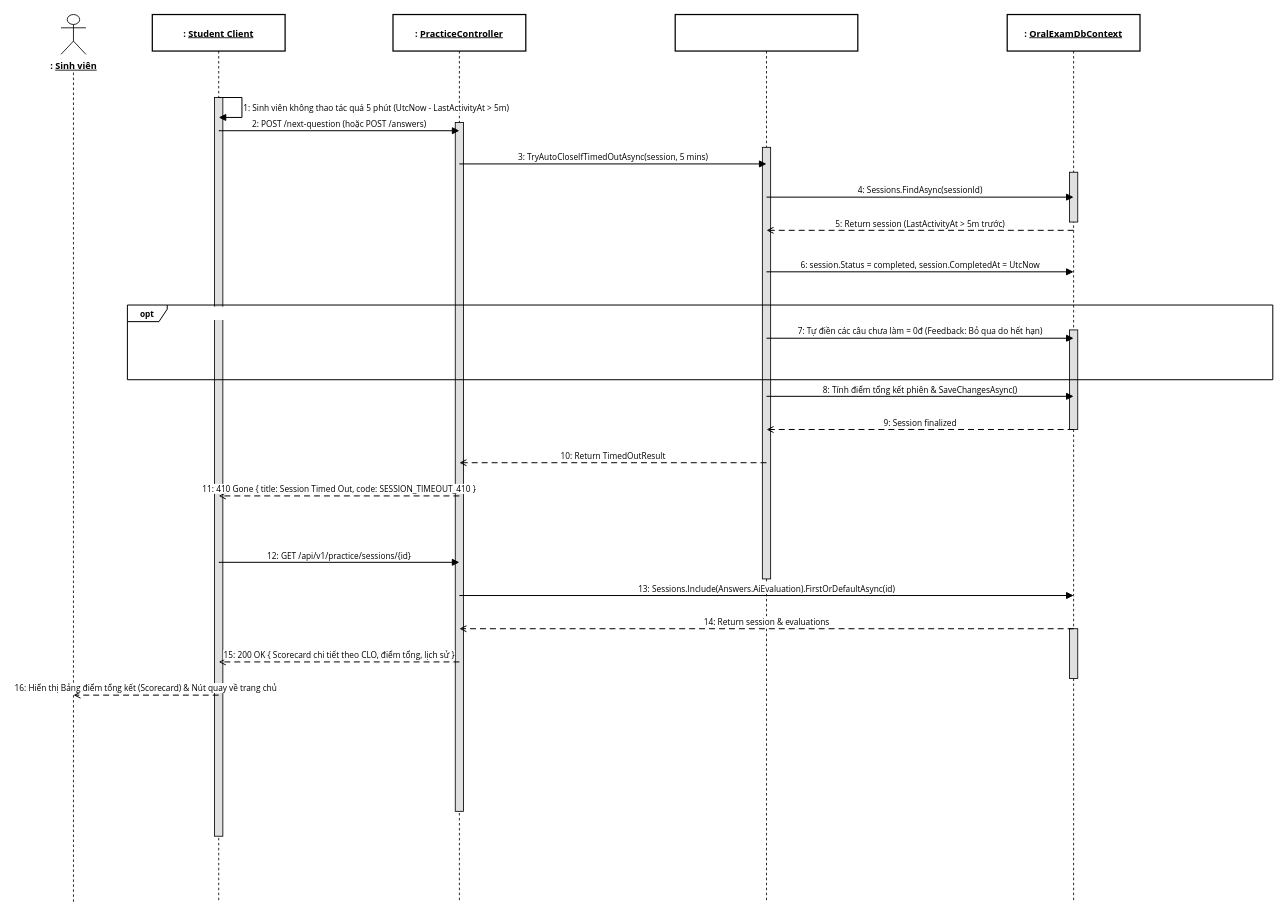
Image size: 1287x919. Some labels were removed from this diagram. The shapes that lost their labels are listed below. From the top down, each one's box as (x1, y1, x2, y2) in pixels, then its label:
(674, 14, 858, 51): : PracticeSessionTimeoutHelper
(173, 306, 369, 320): [Chế độ Full-Session Progressive]
